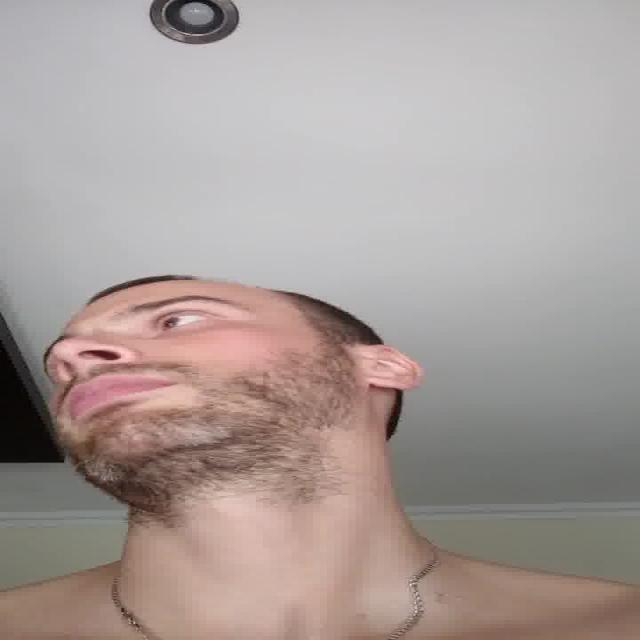earlobe: (364, 372, 396, 391)
eye: (150, 312, 215, 334)
nose: (57, 362, 126, 385)
wholeear: (364, 345, 424, 390)
